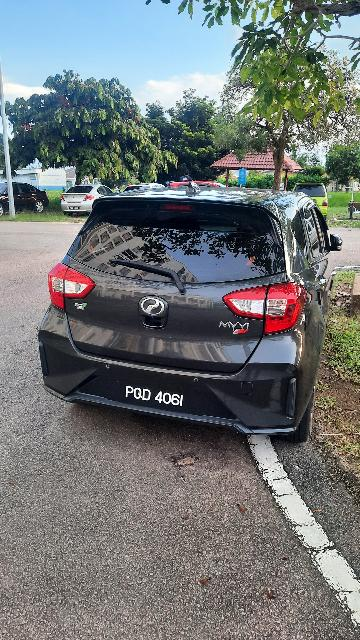License_Plate: (107, 370, 213, 420)
car: (38, 188, 351, 446)
